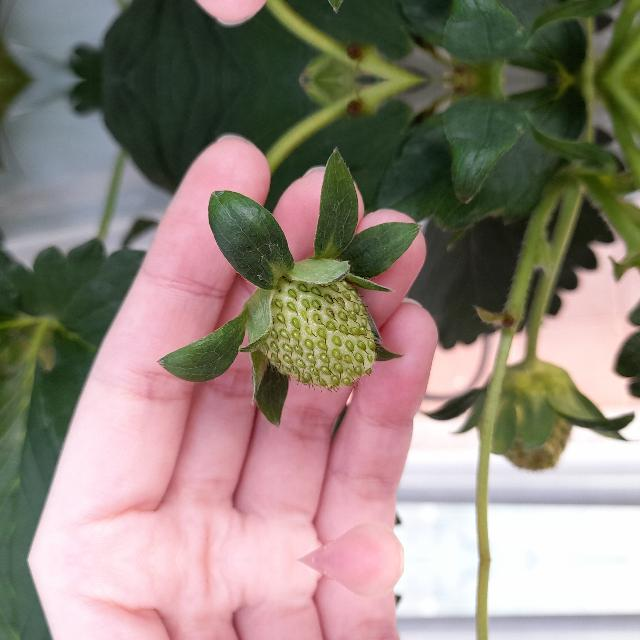Health_25: (256, 274, 376, 391), (480, 366, 574, 472)
